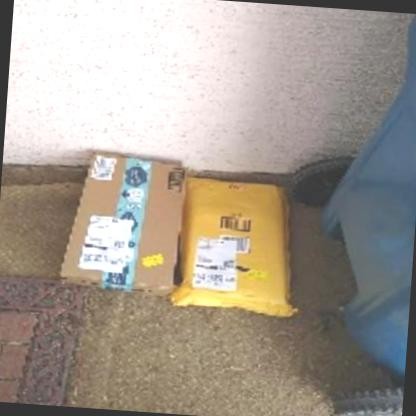box: (60, 143, 185, 297)
envelope: (173, 171, 298, 320)
